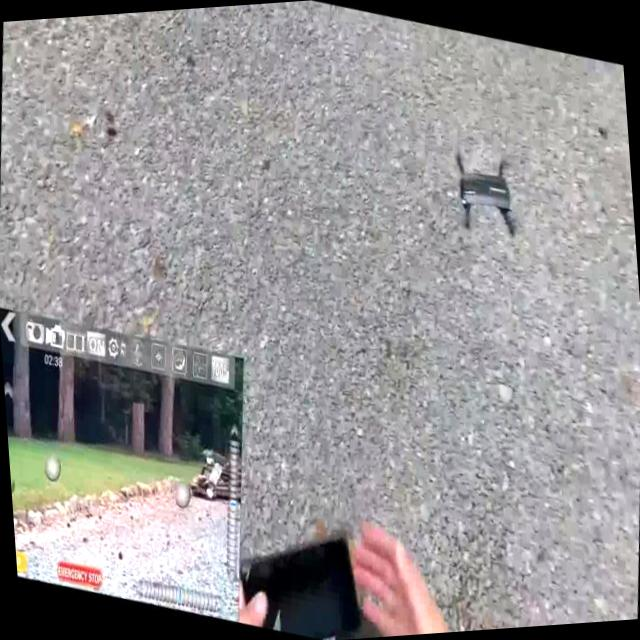drone: (436, 125, 534, 253)
